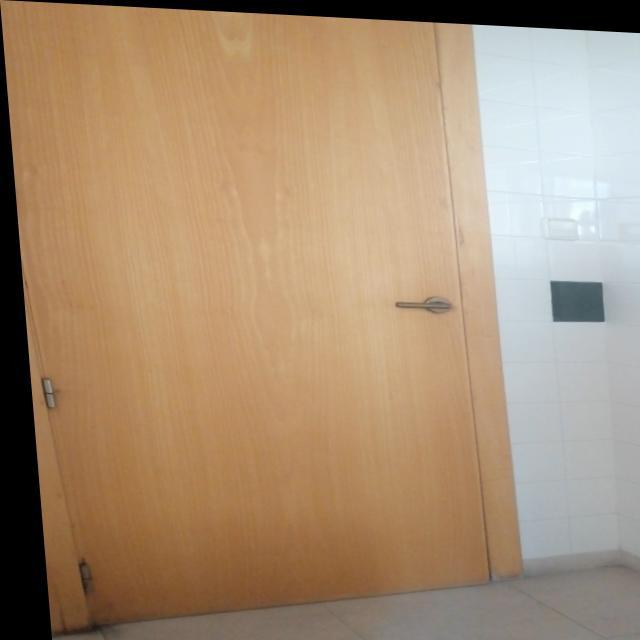door_handle: (386, 294, 453, 308)
